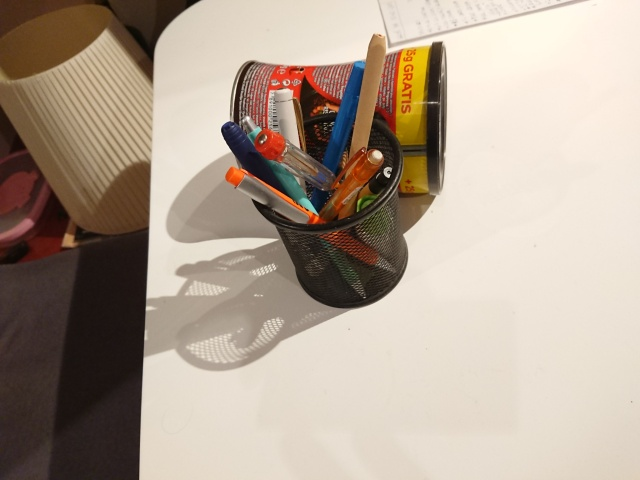Nescafe Classic 225g: (226, 39, 450, 199)
